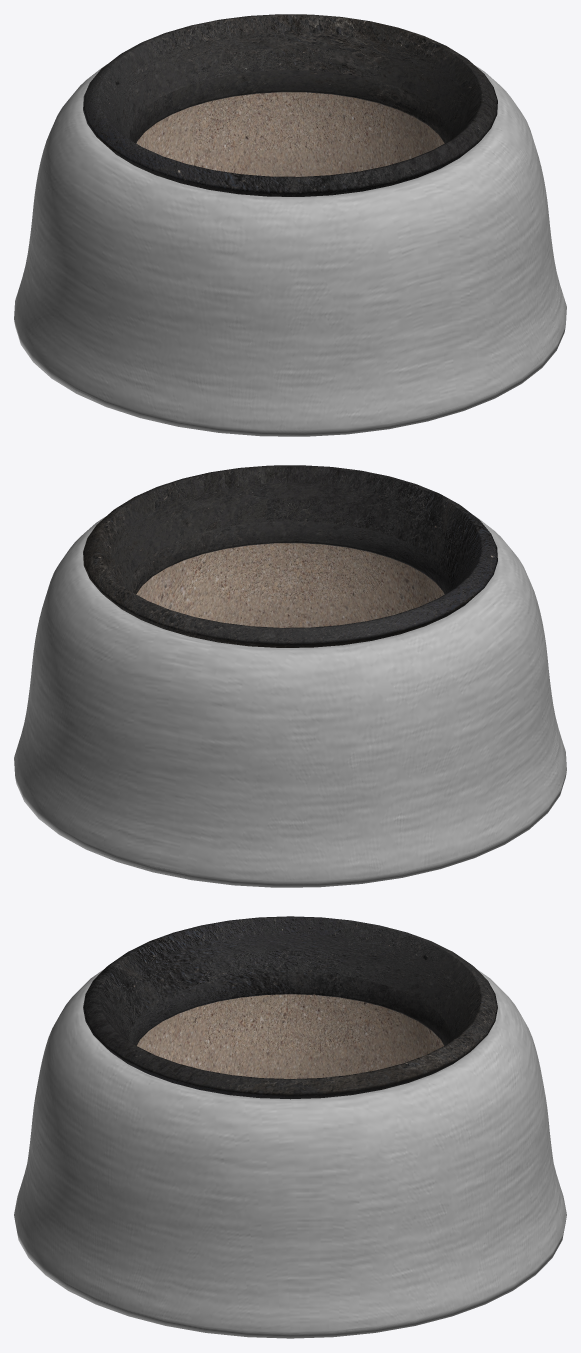
File: stove.fbx
3 views of the same model, one above another, from view 1: azimuth 30°, elevation 25°; view 2: azimuth 150°, elevation 25°; view 3: azimuth 270°, elevation 25° (orthographic).
Parts seen in each view (by area): view 1: pPipe1, pPipe2; view 2: pPipe1, pPipe2; view 3: pPipe1, pPipe2.
Part boxes in pixels (x1,y1,x2,y2): pPipe1: [14, 64, 566, 436]; pPipe2: [83, 14, 497, 196]; pPipe1: [14, 515, 566, 887]; pPipe2: [83, 465, 497, 647]; pPipe1: [14, 969, 566, 1338]; pPipe2: [83, 916, 497, 1099].
Bounding box in the file's own units: 81.24 × 36.44 × 81.24.
Materials: 3 (3 with a texture image).
